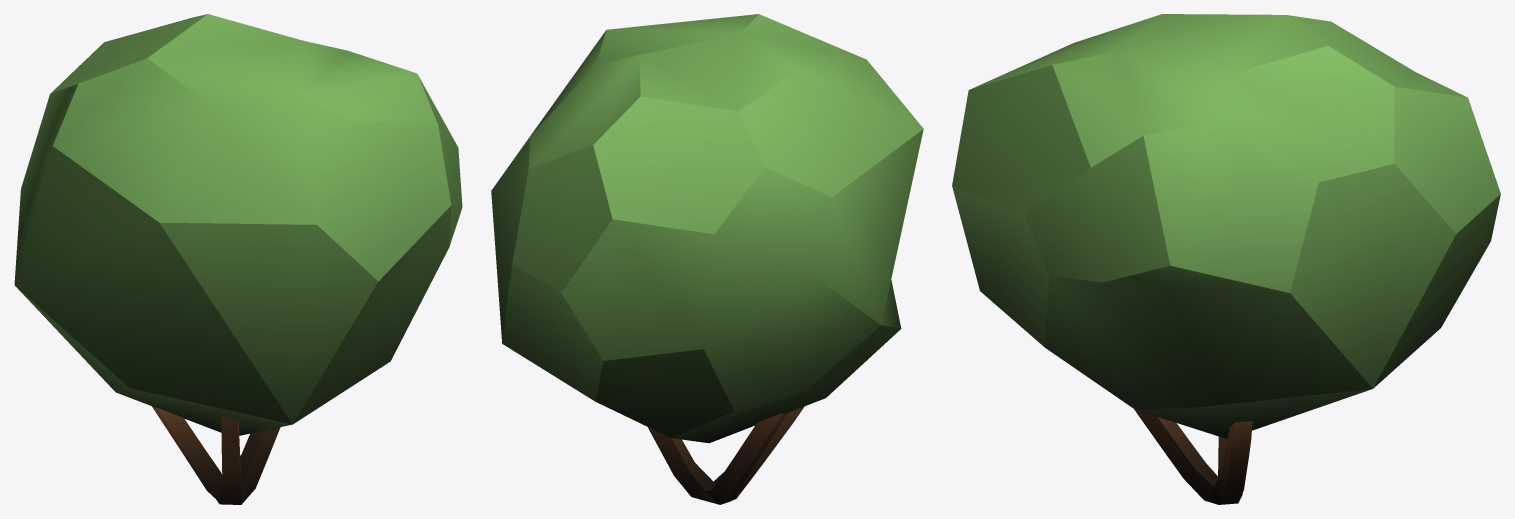
The model's file is bush2.fbx.
The picture shows the model from 3 angles, left to right: view 1: azimuth 30°, elevation 25°; view 2: azimuth 150°, elevation 25°; view 3: azimuth 270°, elevation 25°; orthographic projection. The views are drawn at different scales.
Visible parts, largest first — view 1: bush4; view 2: bush4; view 3: bush4.
Boxes of the visible parts, x1,y1,x2,y2 form: bush4: (14, 14, 462, 504); bush4: (491, 14, 923, 504); bush4: (952, 14, 1500, 504).
Size of the model in its own units: 273 by 292 by 311.
